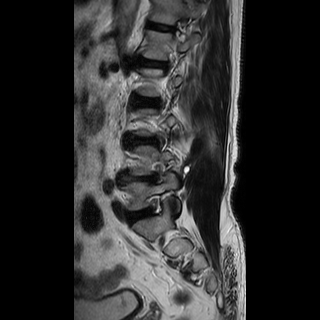LFS0: (142, 187, 168, 223)
